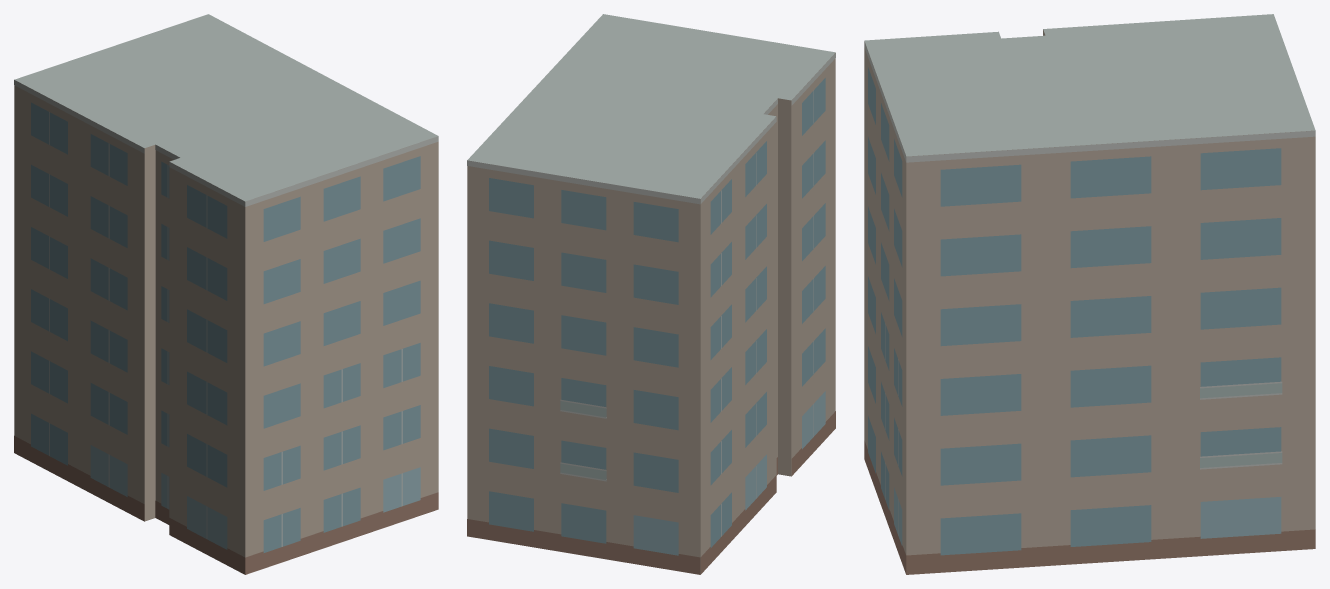
Rendered from survey-upis-32991783.glb.
3 renders of one model, left to right at view 1: azimuth 30°, elevation 25°; view 2: azimuth 150°, elevation 25°; view 3: azimuth 270°, elevation 25°, orthographic. The views are drawn at different scales.
Visible parts, largest first — view 1: survey-upis-32991783.tmp; view 2: survey-upis-32991783.tmp; view 3: survey-upis-32991783.tmp.
Part boxes in pixels (left/top/right/bottom): survey-upis-32991783.tmp: left=14, top=14, right=438, bottom=574; survey-upis-32991783.tmp: left=467, top=14, right=835, bottom=574; survey-upis-32991783.tmp: left=864, top=14, right=1315, bottom=574.
Bounding box in the file's own units: 12.14 × 16.6 × 16.24.
